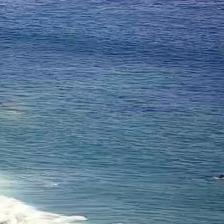surfer: (214, 174, 223, 181)
